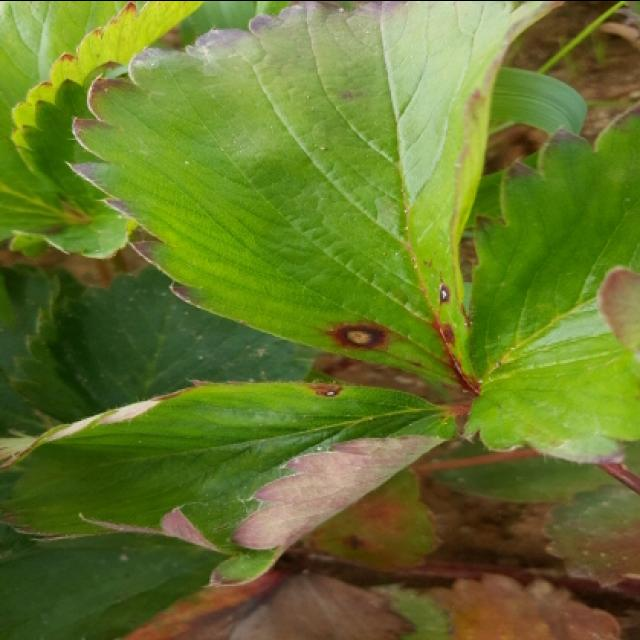Leaf Spot: (66, 2, 561, 408), (0, 377, 463, 590)
